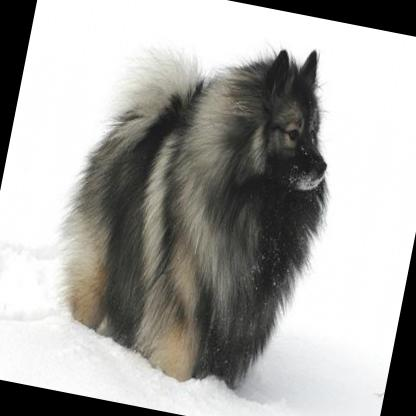keeshond: (40, 6, 355, 401)
